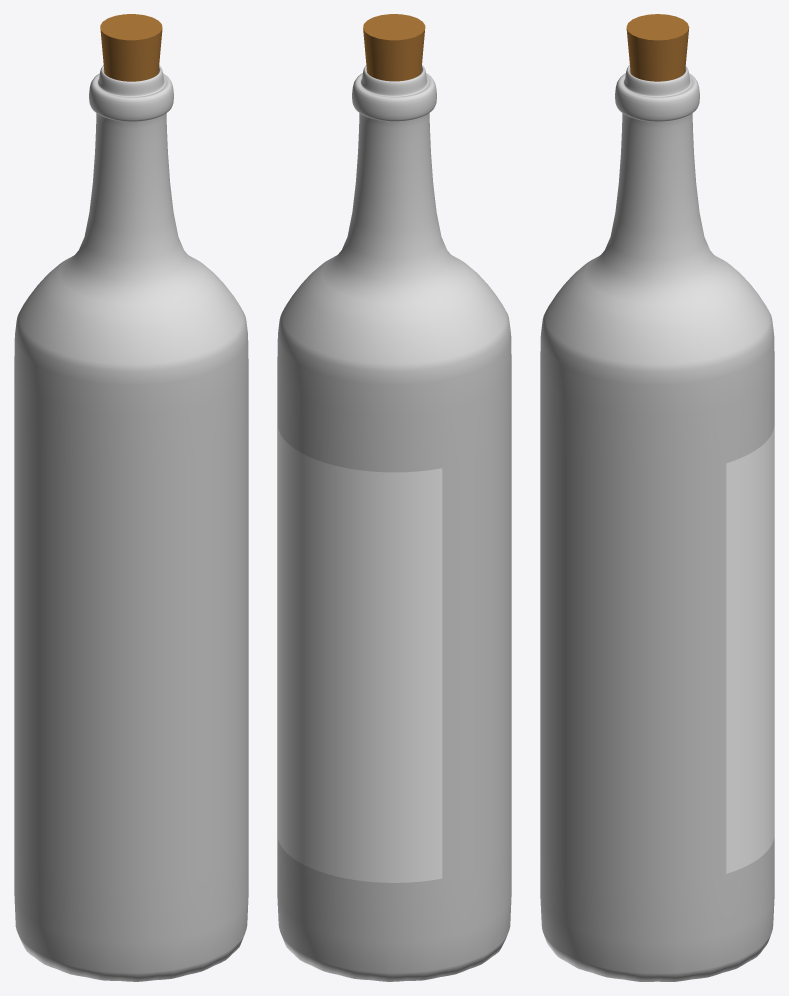
Rendered from Wine_Bottle_Final.fbx.
3 views of the same model, side by side, from view 1: azimuth 30°, elevation 25°; view 2: azimuth 150°, elevation 25°; view 3: azimuth 270°, elevation 25° (orthographic).
Parts seen in each view (by area): view 1: Glass, Cork; view 2: Glass, Cork; view 3: Glass, Cork.
Part boxes in pixels (box(x1,y1,x2,y2)): Glass: box(14, 65, 248, 981); Cork: box(100, 14, 162, 81); Glass: box(277, 65, 511, 981); Cork: box(363, 14, 425, 81); Glass: box(540, 65, 774, 981); Cork: box(626, 14, 689, 81).
Bounding box in the file's own units: 2.06 × 8.8 × 2.06.
